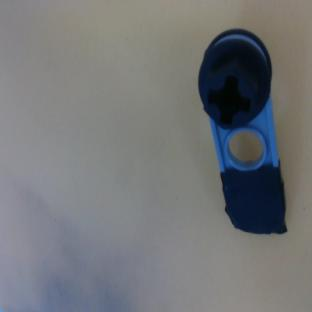part_1_bad: (193, 25, 288, 240)
